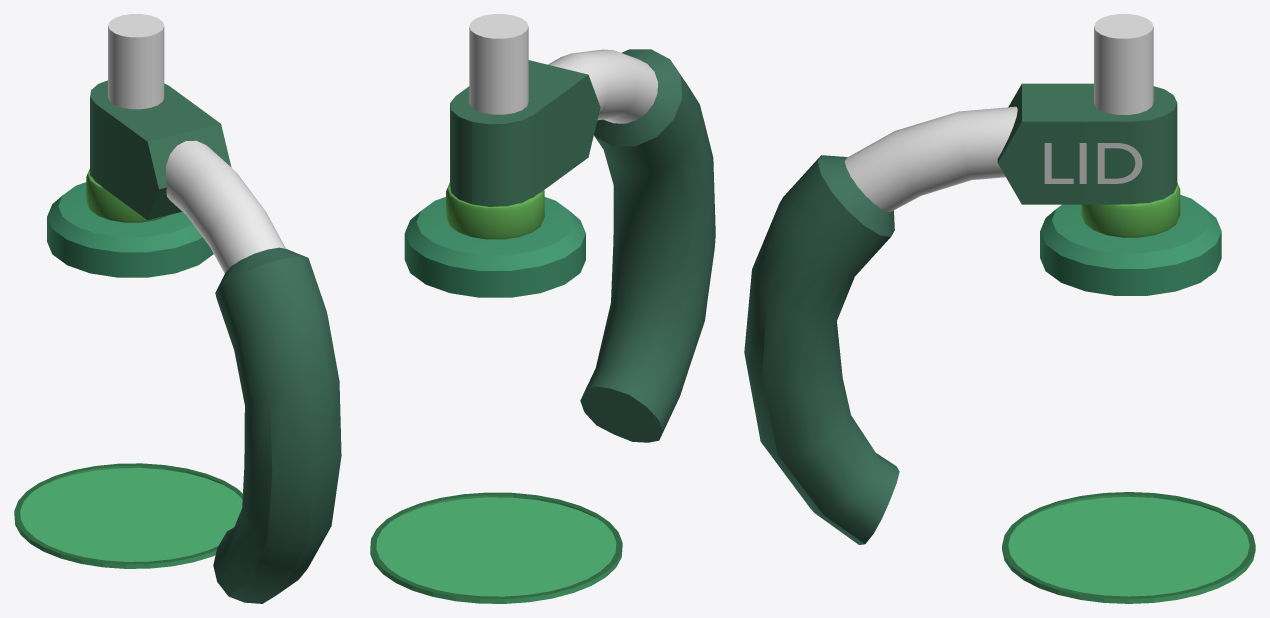
File: kapak_makinesi.fbx
3 renders of one model, left to right at view 1: azimuth 30°, elevation 25°; view 2: azimuth 150°, elevation 25°; view 3: azimuth 270°, elevation 25°, orthographic. The views are drawn at different scales.
Parts seen in each view (by area): view 1: Cylinder, Circle.001, Cube, Cylinder.004, Cylinder.001, Cylinder.003, Cylinder.005; view 2: Cylinder, Circle.001, Cube, Cylinder.004, Cylinder.003, Cylinder.001, Cylinder.005; view 3: Cylinder, Circle.001, Cube, Cylinder.004, Cylinder.001, Cylinder.003, Cylinder.005, Text.
Part boxes in pixels (box(x1,y1,x2,y2)): Cylinder: box(213, 247, 341, 603); Circle.001: box(14, 463, 242, 568); Cube: box(90, 80, 231, 220); Cylinder.004: box(47, 182, 213, 277); Cylinder.001: box(165, 140, 285, 273); Cylinder.003: box(108, 14, 164, 109); Cylinder.005: box(86, 169, 168, 222); Cylinder: box(580, 49, 715, 442); Circle.001: box(370, 492, 622, 603); Cube: box(450, 60, 600, 206); Cylinder.004: box(404, 197, 585, 297); Cylinder.003: box(469, 14, 528, 114); Cylinder.001: box(548, 49, 657, 123); Cylinder.005: box(446, 182, 544, 239); Cylinder: box(744, 155, 899, 544); Circle.001: box(1002, 492, 1255, 603); Cube: box(997, 83, 1177, 204); Cylinder.004: box(1040, 194, 1221, 295); Cylinder.001: box(844, 106, 1017, 211); Cylinder.003: box(1094, 14, 1153, 114); Cylinder.005: box(1081, 182, 1180, 237); Text: box(1044, 143, 1142, 183).
Bounding box in the file's own units: 200 × 456 × 403.
